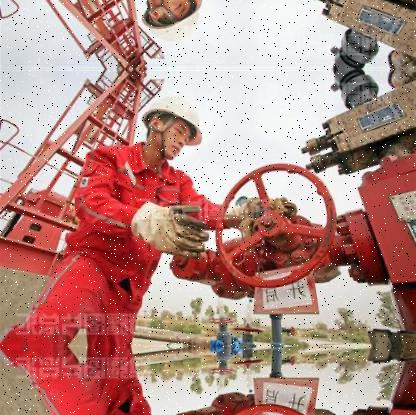helmet: (136, 83, 212, 165), (135, 0, 212, 54)
